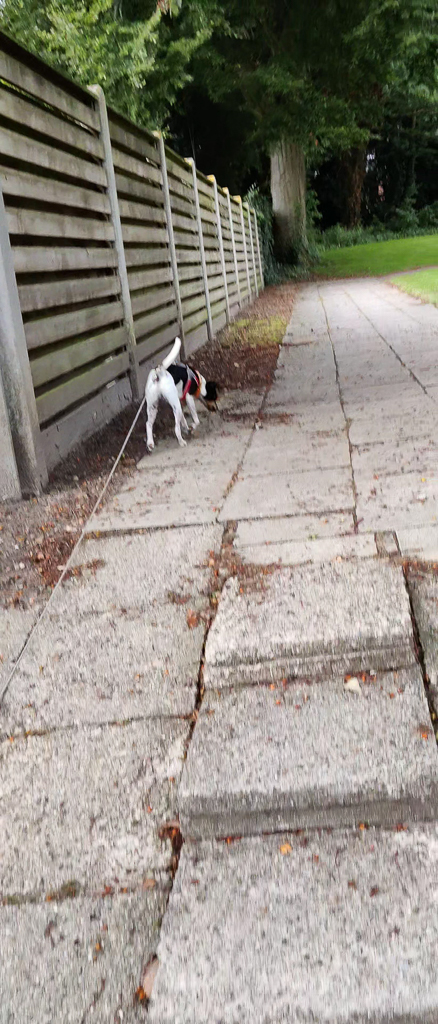Dog: (131, 334, 230, 458)
